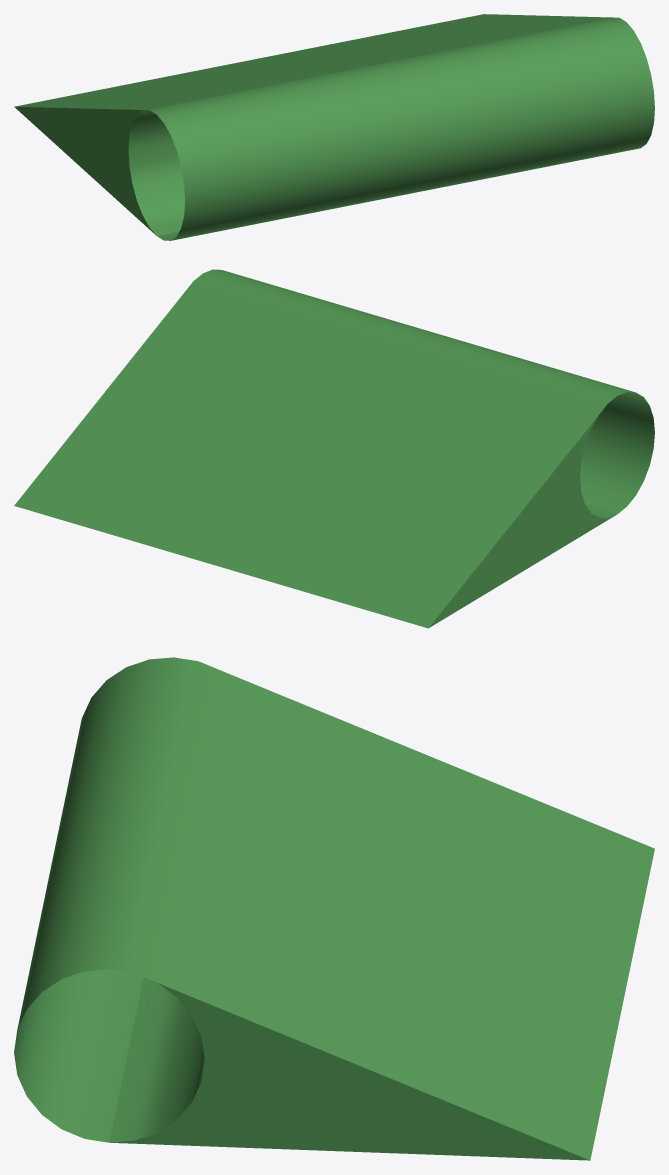
File: JntNormal1.dae
The picture shows the model from 3 angles, top to bottom: view 1: azimuth 30°, elevation 25°; view 2: azimuth 150°, elevation 25°; view 3: azimuth 270°, elevation 25°; orthographic projection. The views are drawn at different scales.
Parts seen in each view (by area): view 1: group_0 (×2); view 2: group_0; view 3: group_0 (×2).
Part boxes in pixels (x1,y1,x2,y2): group_0 (×2): (14,14,654,240); group_0: (14,269,654,628); group_0 (×2): (14,657,654,1160).
Bounding box in the file's own units: 22.7 × 18.46 × 5.51.
